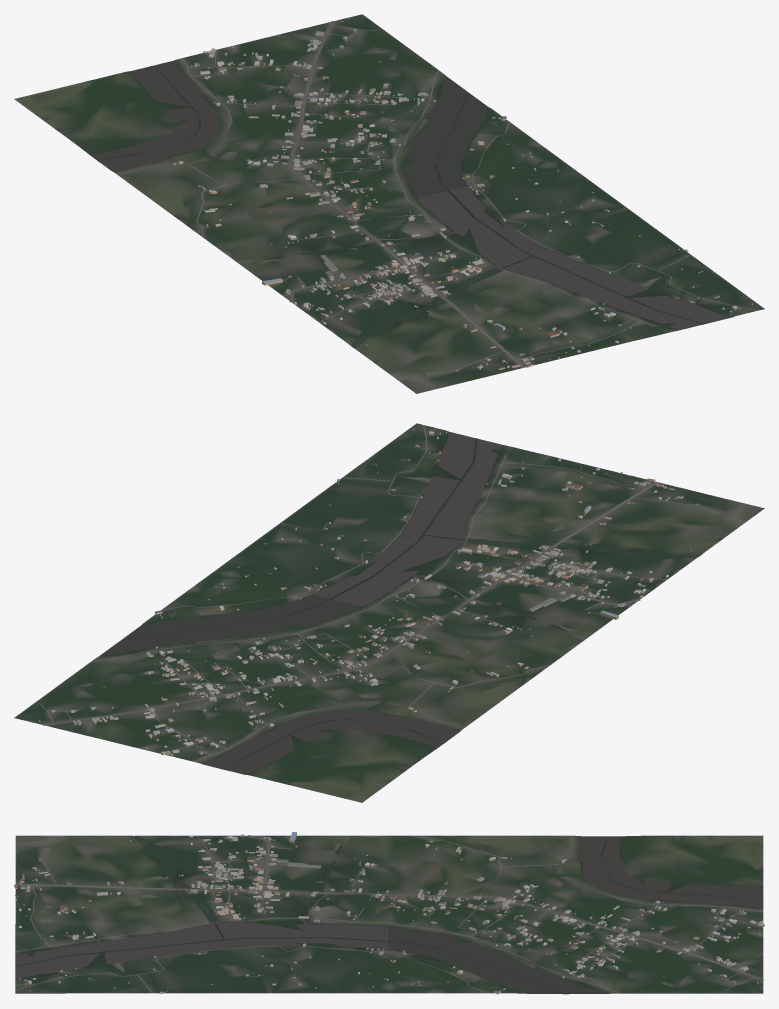
The picture shows the model from 3 angles, top to bottom: view 1: azimuth 30°, elevation 25°; view 2: azimuth 150°, elevation 25°; view 3: azimuth 270°, elevation 25°; orthographic projection. The views are drawn at different scales.
Visible parts, largest first — view 1: ground, water, buildings, roads; view 2: ground, water, buildings, roads; view 3: ground, water, buildings, roads.
Part boxes in pixels (x1,y1,x2,y2): ground: (14,14,764,393); water: (90,61,731,348); buildings: (173,20,752,371); roads: (181,21,758,369); ground: (14,423,764,802); water: (99,431,701,774); buildings: (39,427,698,756); roads: (40,425,694,761); ground: (15,835,763,994); water: (15,835,762,993); buildings: (14,832,764,994); roads: (15,835,763,993).
Bounding box in the file's own units: 1419 × 14.59 × 2813.
